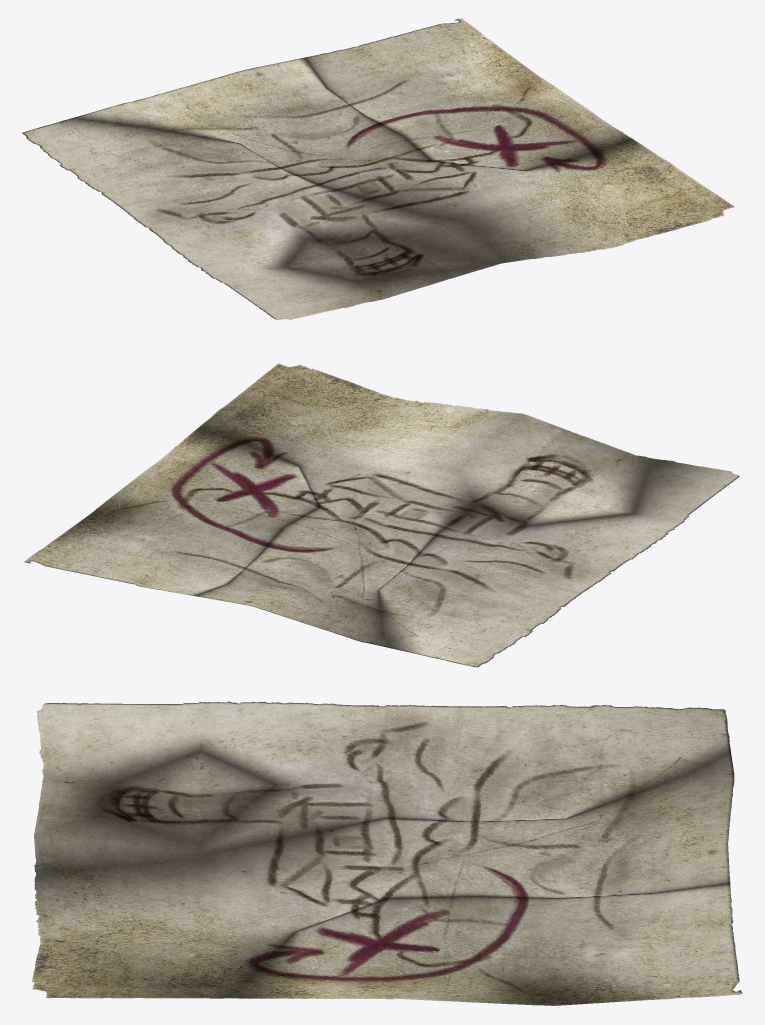
The model's file is KM_ITEM_MAP_08.glb.
3 views of the same model, one above another, from view 1: azimuth 30°, elevation 25°; view 2: azimuth 150°, elevation 25°; view 3: azimuth 270°, elevation 25° (orthographic). The views are drawn at different scales.
Parts seen in each view (by area): view 1: Mesh; view 2: Mesh; view 3: Mesh.
Part boxes in pixels (left/top/right/bottom): Mesh: left=22, top=18, right=734, bottom=319; Mesh: left=24, top=363, right=739, bottom=667; Mesh: left=32, top=701, right=742, bottom=1005.
Bounding box in the file's own units: 0.5163 × 0.0205 × 0.532.
1 material, 1 textured.
